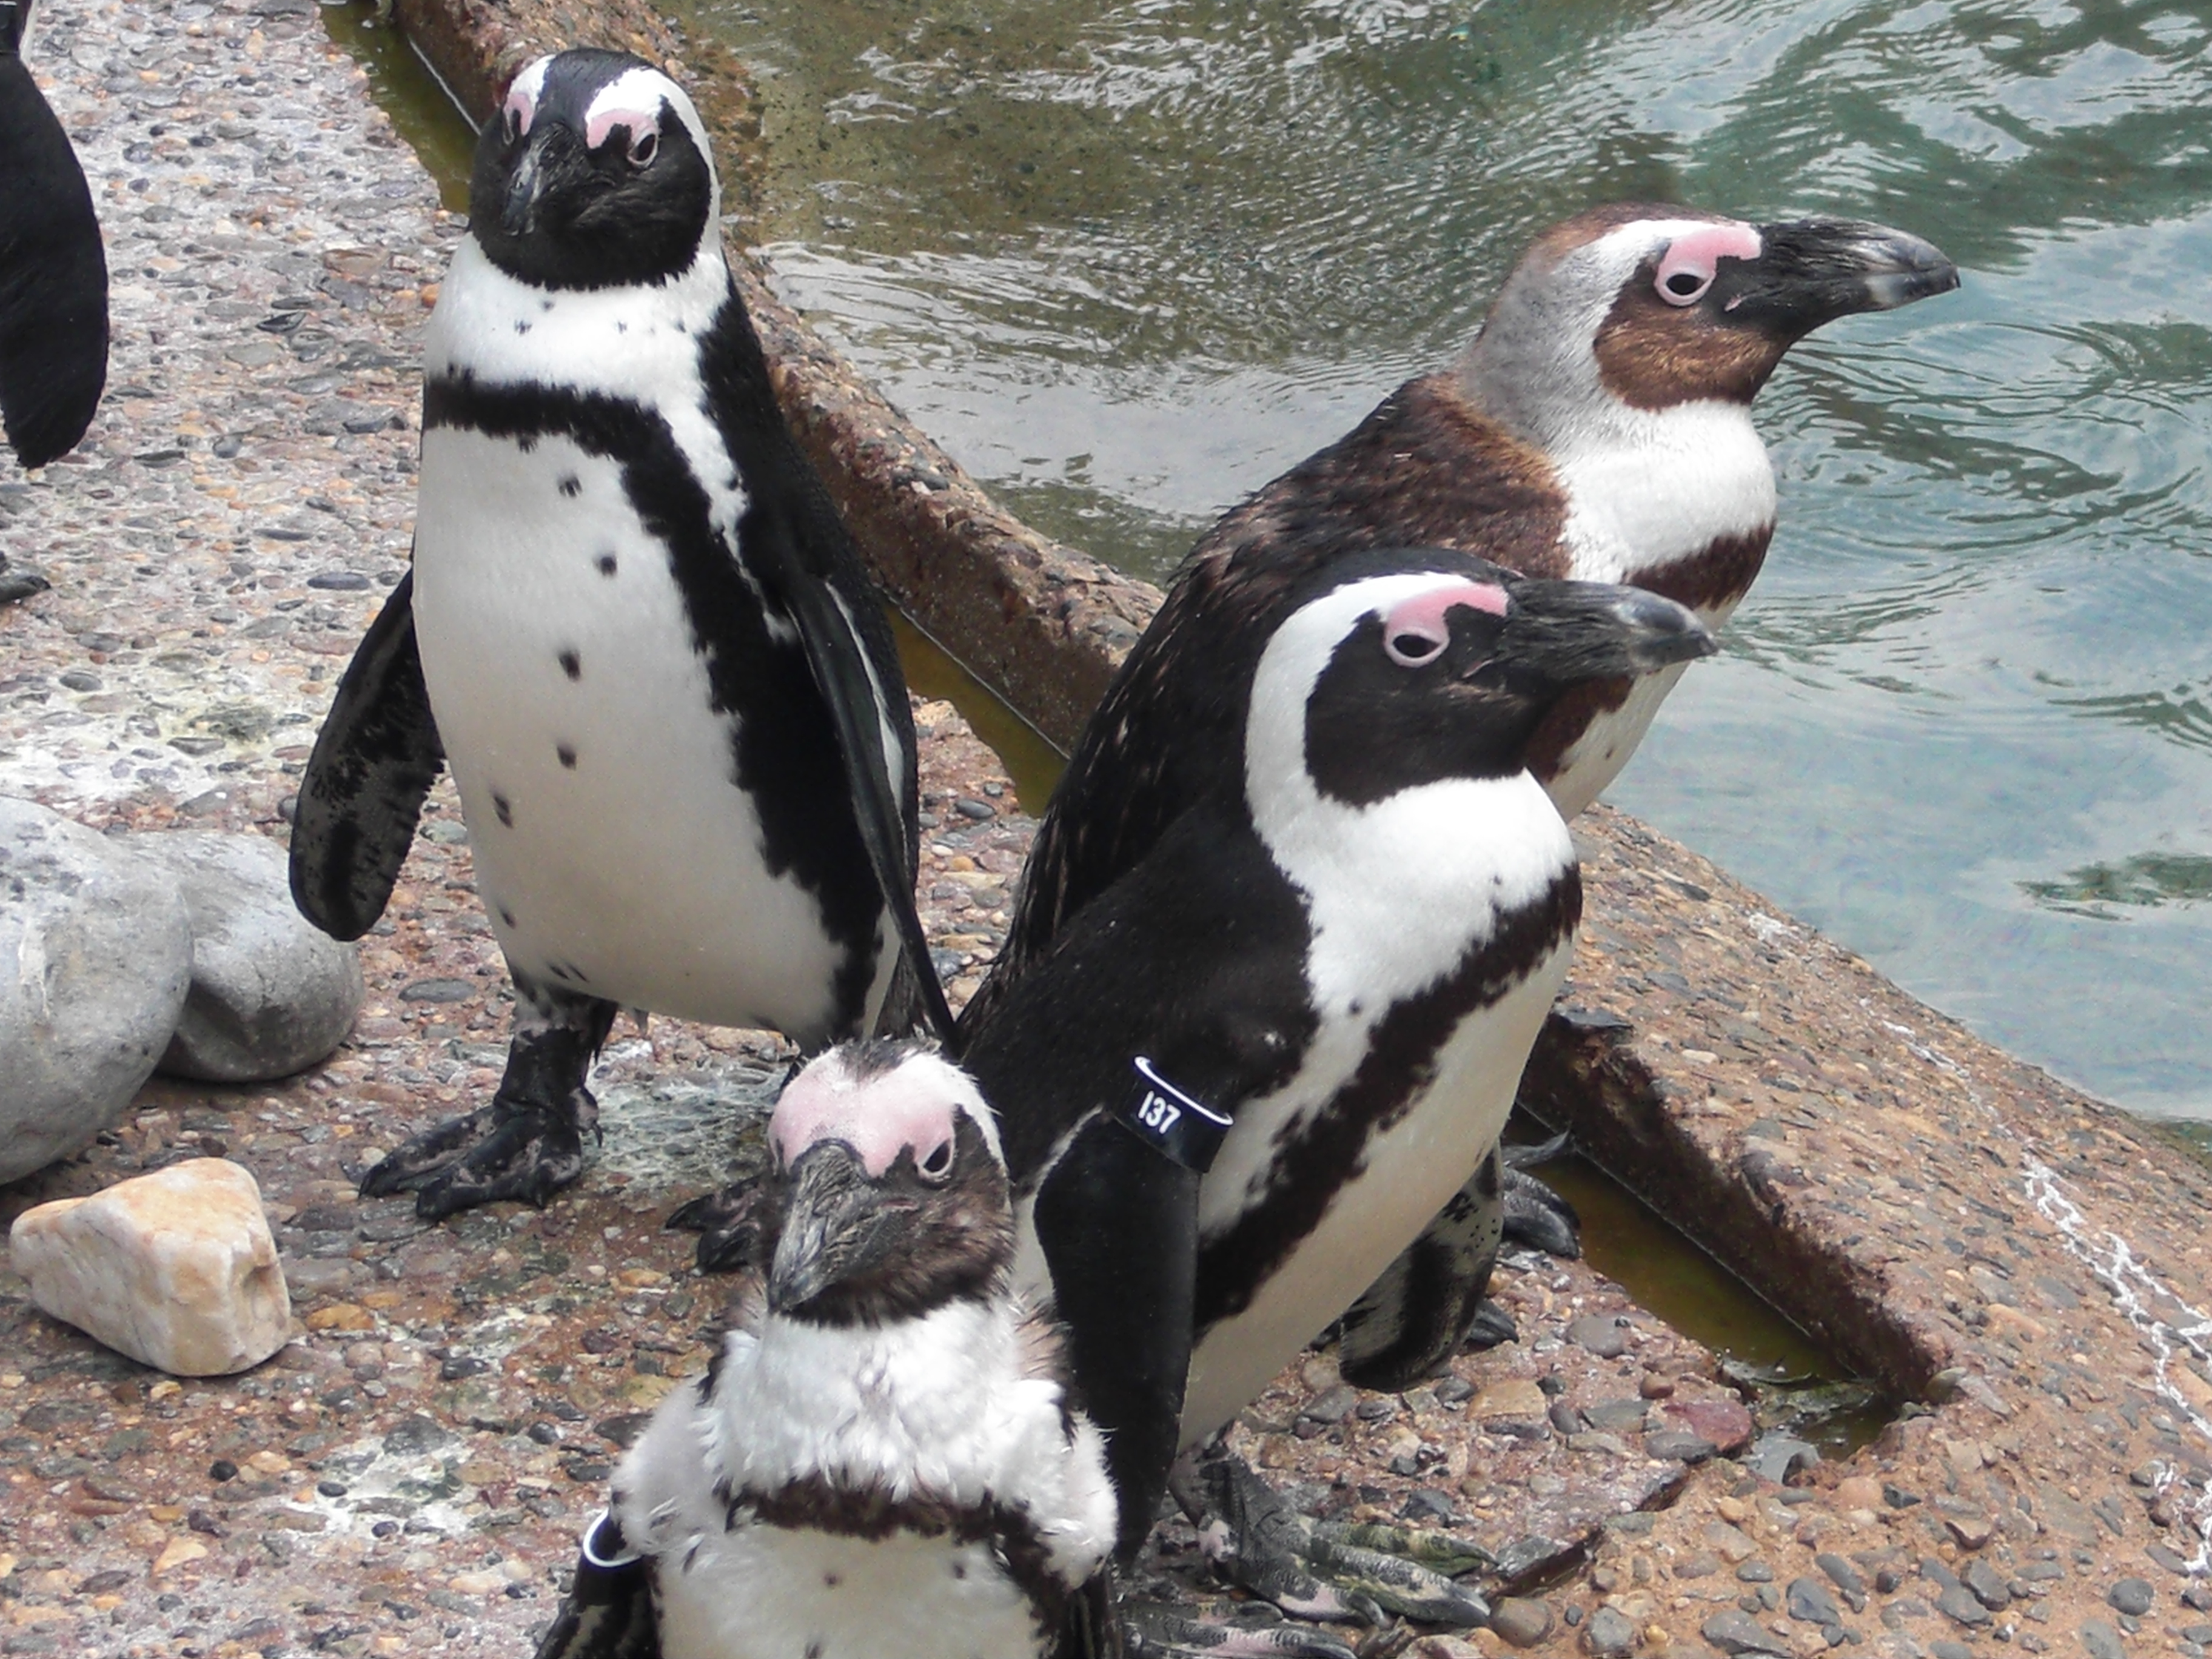penguin: (1035, 551, 1975, 1537), (310, 38, 911, 1220), (577, 1046, 1130, 1659)
